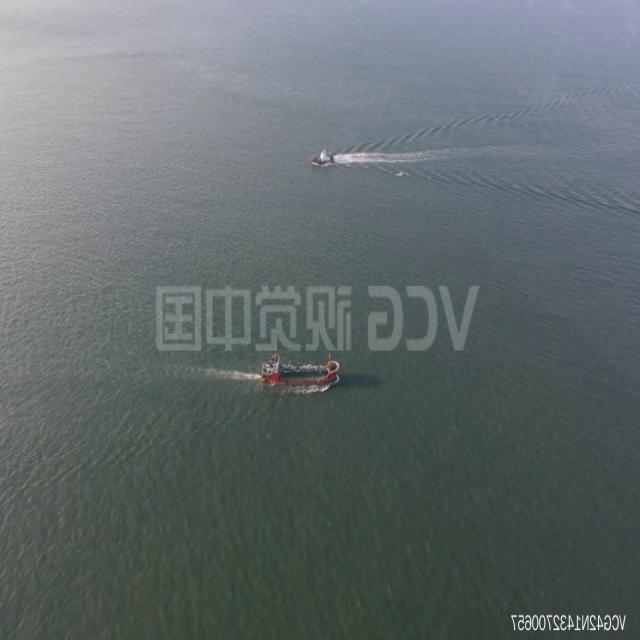cargoship: (256, 343, 341, 394), (311, 144, 334, 166)
